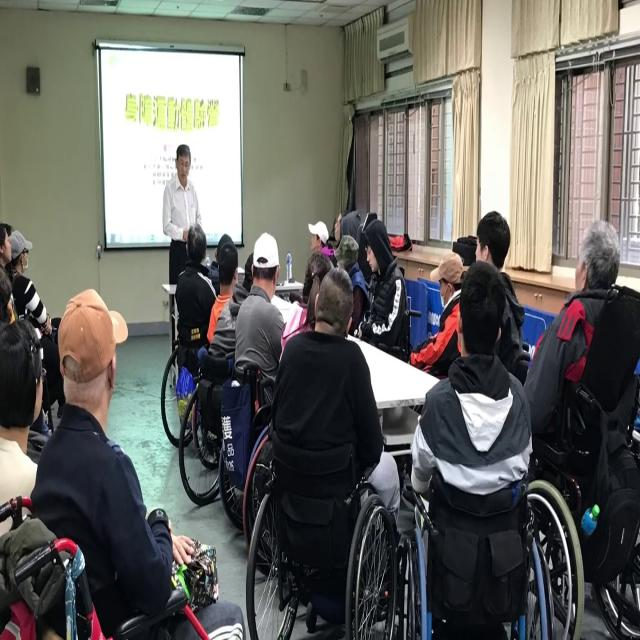wheelchairs: (238, 472, 400, 640), (387, 500, 567, 640)
